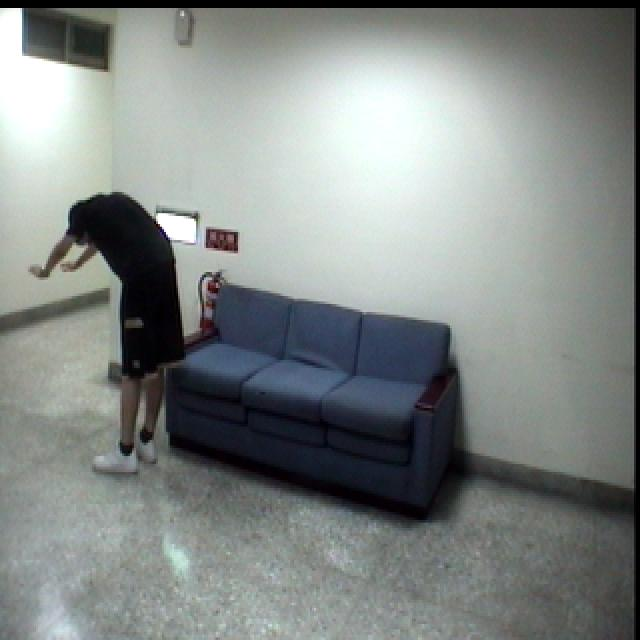bend: (25, 186, 198, 484)
